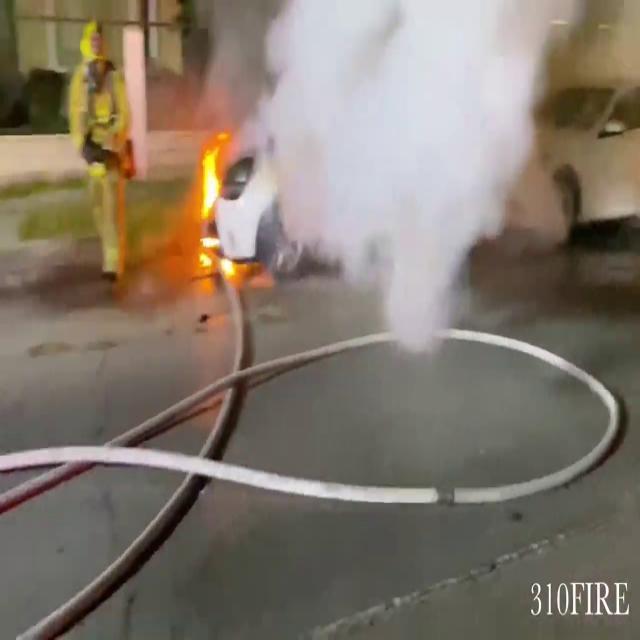Fire: (194, 124, 234, 223), (190, 242, 220, 280)
Smoke: (225, 0, 622, 338)
